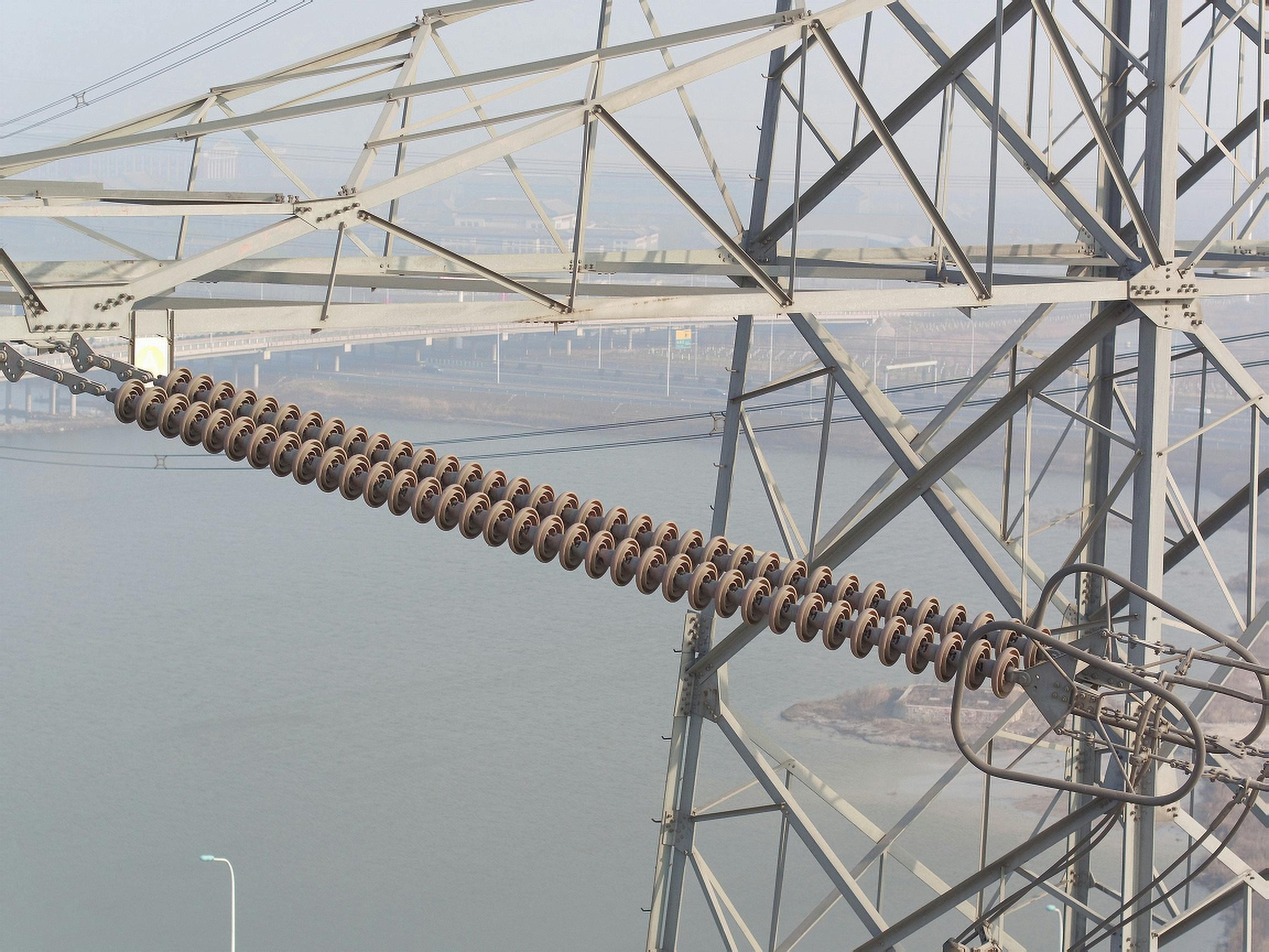insulator: (110, 363, 1055, 701)
